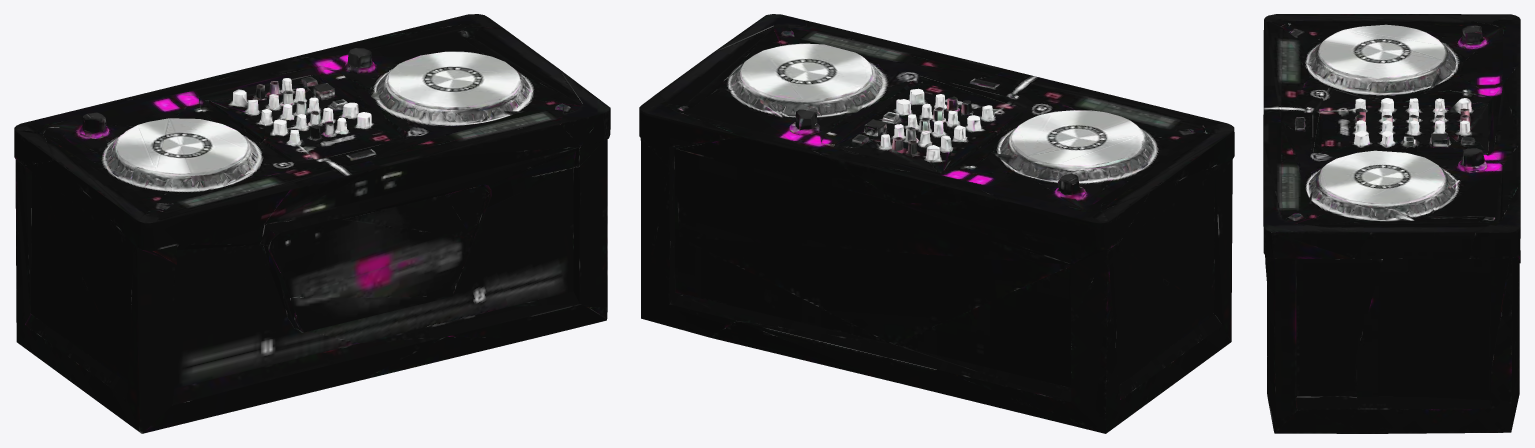
The model's file is dj-booth.glb.
3 views of the same model, side by side, from view 1: azimuth 30°, elevation 25°; view 2: azimuth 150°, elevation 25°; view 3: azimuth 270°, elevation 25° (orthographic). The views are drawn at different scales.
Bounding box in the file's own units: 1.9 × 0.883 × 0.9451.
1 material, 1 textured.
